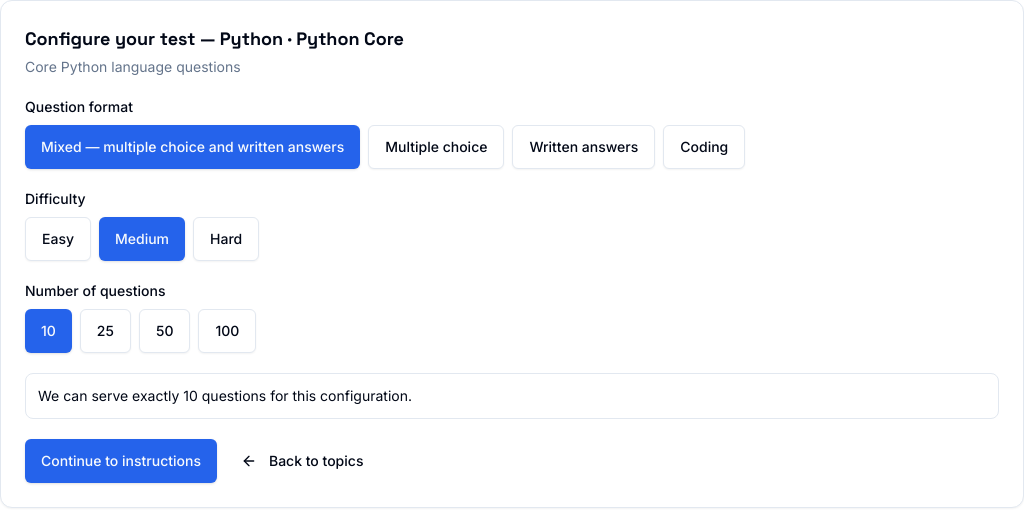
Test: #1679 — P1: invented time figures + stale pre-flight race › P1-1: instructions state only the per-question timer rule — no invented total time
Click the button "Continue to instructions": (121, 461) [25, 439, 217, 483]
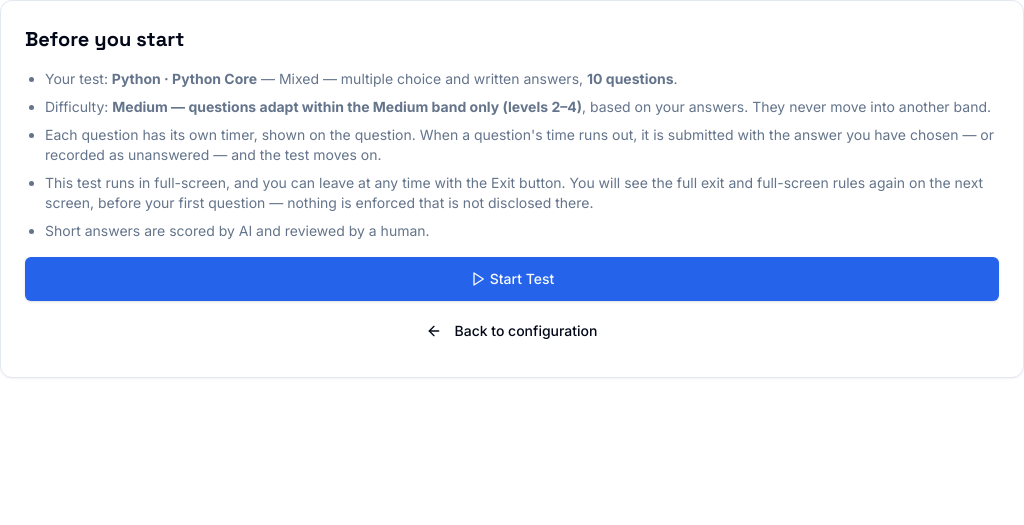
Expected: the heading "Before you start" is shown, [25, 26, 184, 52]
Expected: the list item "When a question's time runs out, it is submitted with the answer you have chosen" is shown, [45, 126, 994, 163]
